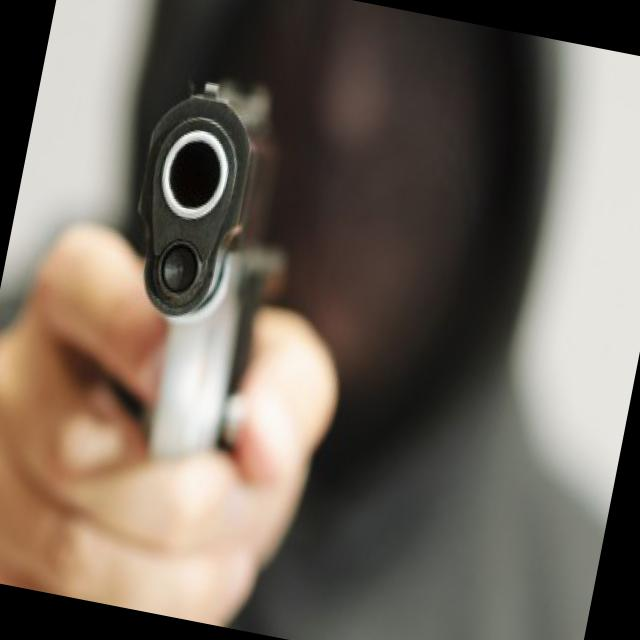handgun: (81, 52, 328, 479)
